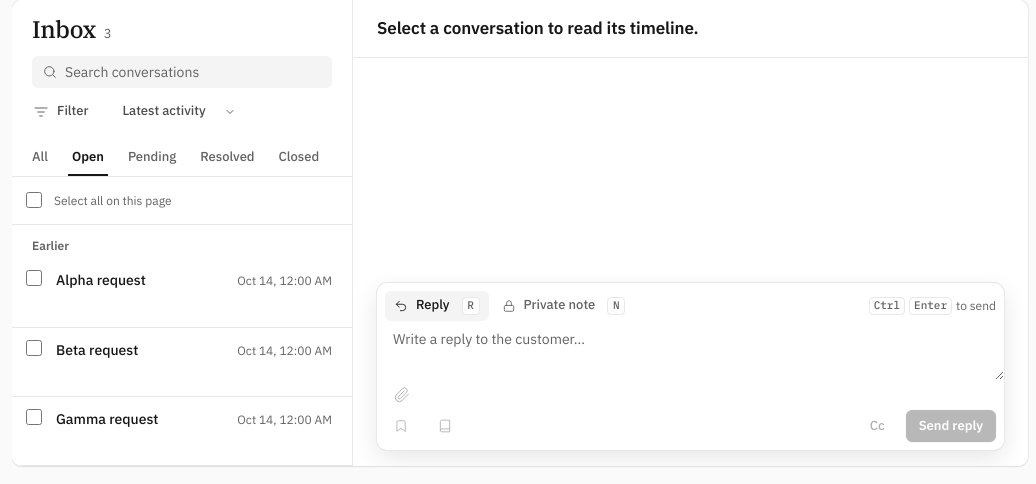
Test: the action bar offers resolve, status, assign, tags and clear as named icon controls, and no delete
Step 1. Click the checkbox named "alpha request" → point(34, 278), box x1=26 y1=270 x2=42 y2=286
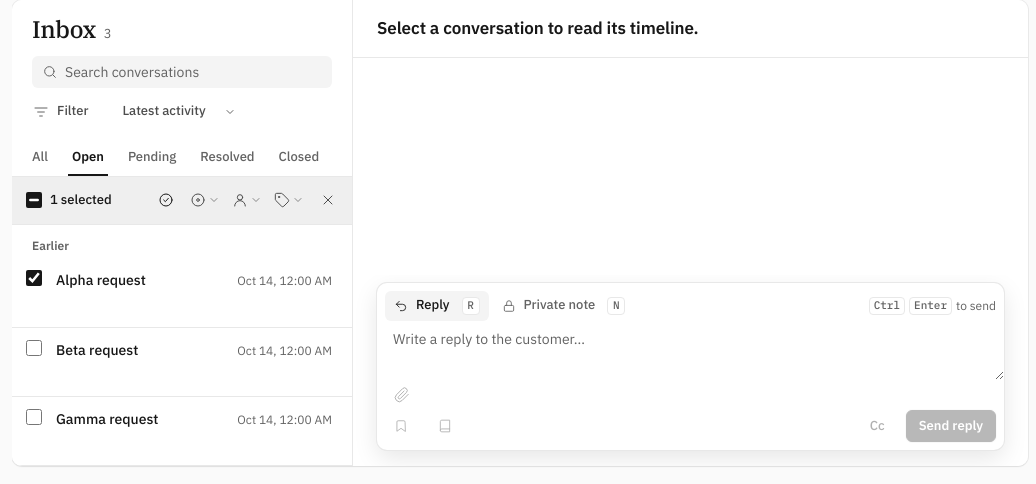
Step 2. Click the checkbox named "beta request" → point(34, 348), box x1=26 y1=340 x2=42 y2=356
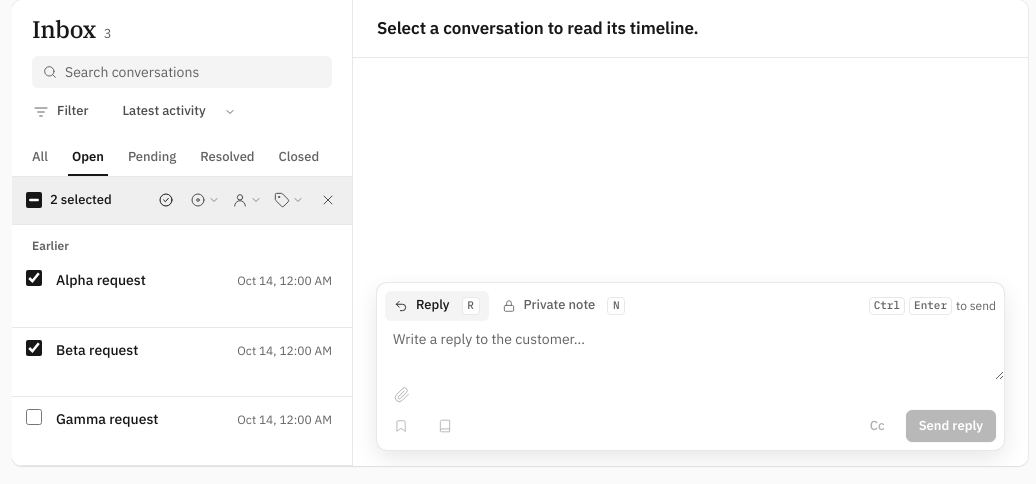
Check: the text "2 selected" is shown, box x1=50 y1=191 x2=112 y2=210
